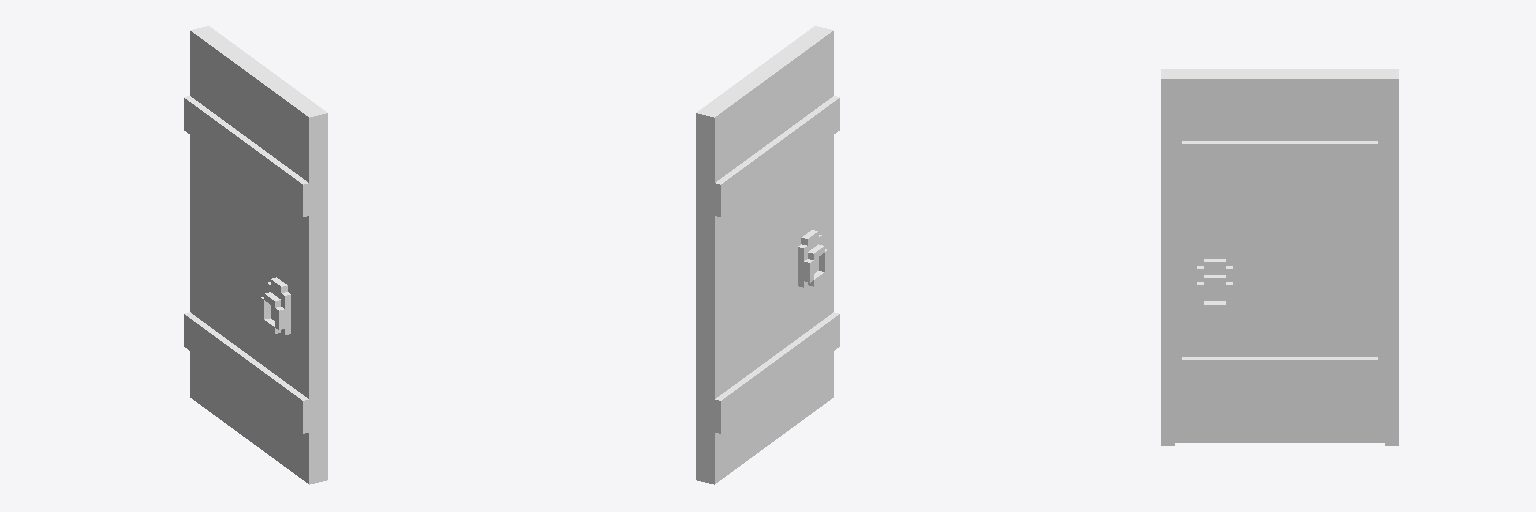
The model's file is door_textured_brown.obj.
The picture shows the model from 3 angles: view 1: azimuth 30°, elevation 25°; view 2: azimuth 150°, elevation 25°; view 3: azimuth 270°, elevation 25°; orthographic projection.
Visible parts, largest first — view 1: object 1; view 2: object 1; view 3: object 1.
Boxes of the visible parts, <box> form: object 1: <box>184,26,327,484</box>; object 1: <box>696,26,839,484</box>; object 1: <box>1161,69,1398,445</box>.
Bounding box in the file's own units: 0.6 × 5.6 × 3.3.